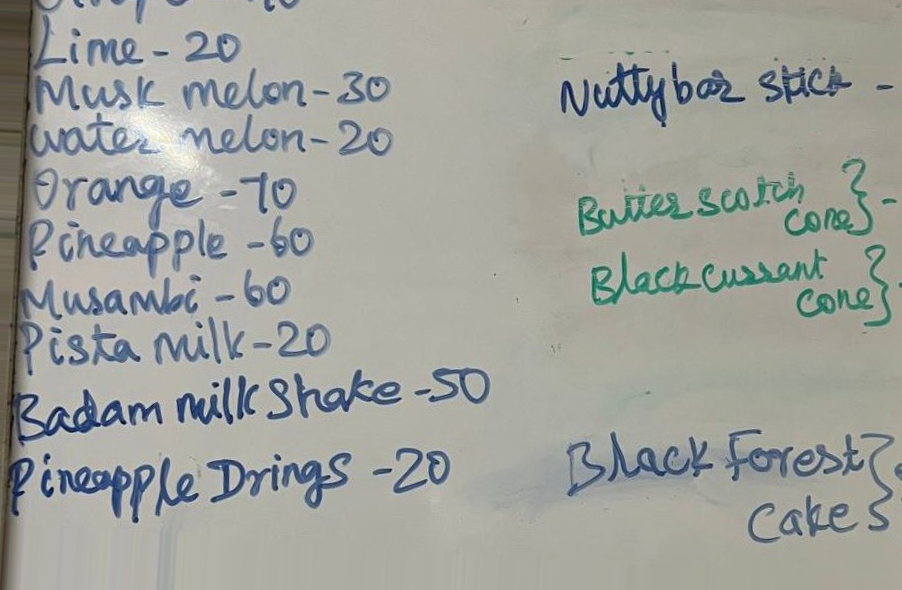badam milkshake - 50: (15, 366, 495, 442)
black current cone - 40: (582, 236, 902, 334)
black forest cake - 50: (562, 425, 902, 551)
butterscotch cone - 35: (571, 154, 899, 244)
lime - 20: (33, 15, 245, 71)
musambi - 60: (14, 272, 296, 314)
musk melon - 30: (31, 67, 395, 116)
nutty bar - 30: (554, 53, 861, 125)
orange - 70: (24, 166, 307, 218)
pineapple - 60: (19, 215, 327, 268)
pineapple drink - 20: (7, 445, 454, 521)
pista milk - 20: (16, 317, 333, 369)
water melon - 20: (25, 114, 404, 168)
